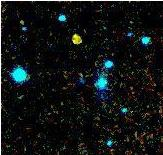star: (59, 24, 89, 54)
